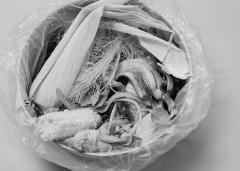organic: (33, 29, 81, 105), (36, 105, 106, 145), (123, 58, 164, 98)
